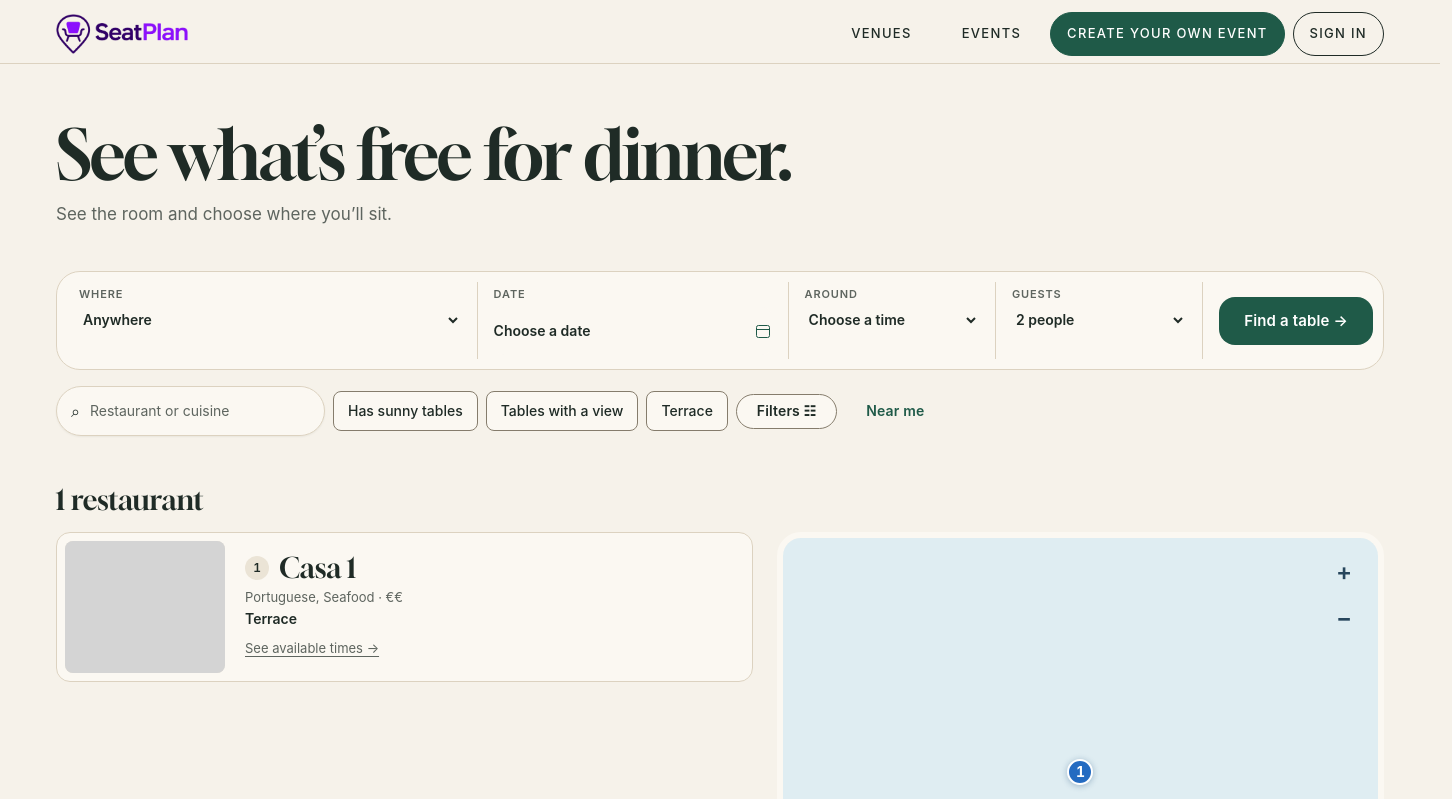
Test: DiscoverPage: the command bar › uses the location when the browser gives it, and names it in the city list
This screenshot has width=1452, height=799.
Expected: the heading "1 Casa 1" is shown, x1=245 y1=551 x2=356 y2=584
Click the button "Near me": [895, 411] box x1=845 y1=394 x2=945 y2=429
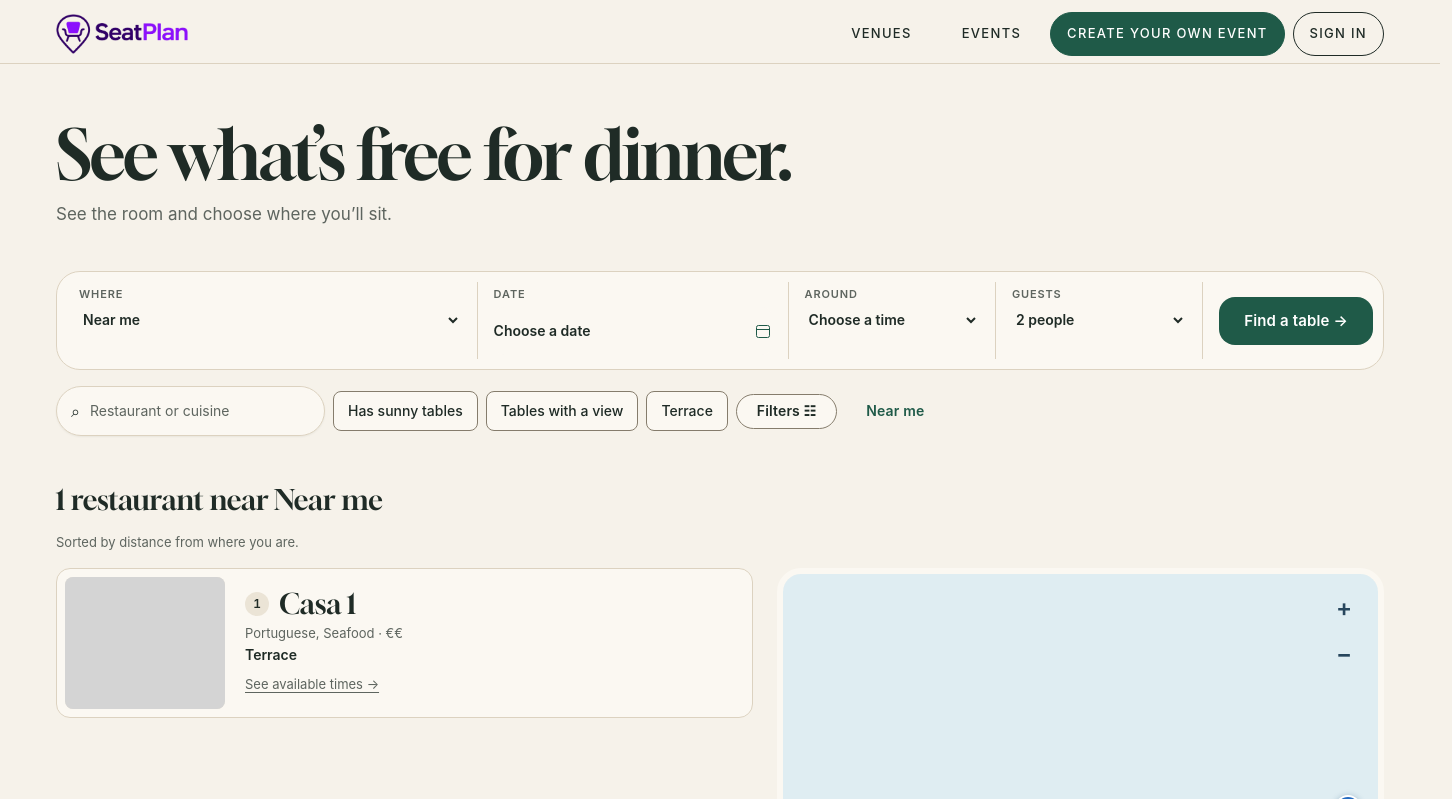
Expected: the text "Sorted by distance from where you are." is shown, x1=56 y1=534 x2=299 y2=550
Expected: the dropdown named "Choose a city" shows "Near me", x1=79 y1=308 x2=461 y2=332
